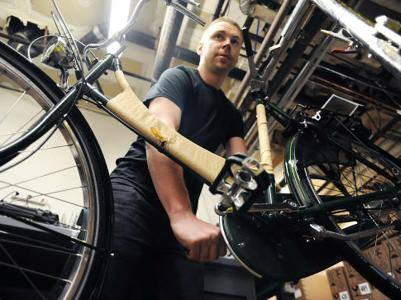person: (74, 17, 250, 300)
